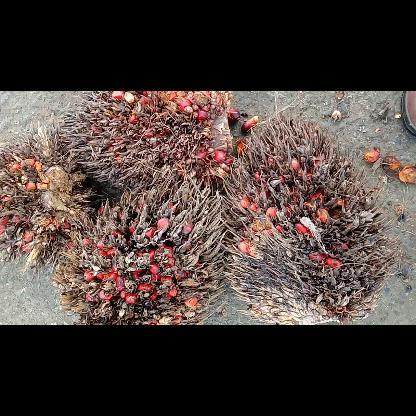Terlalu masak: (218, 111, 402, 324), (52, 176, 235, 324), (55, 91, 240, 199), (0, 119, 107, 284)
